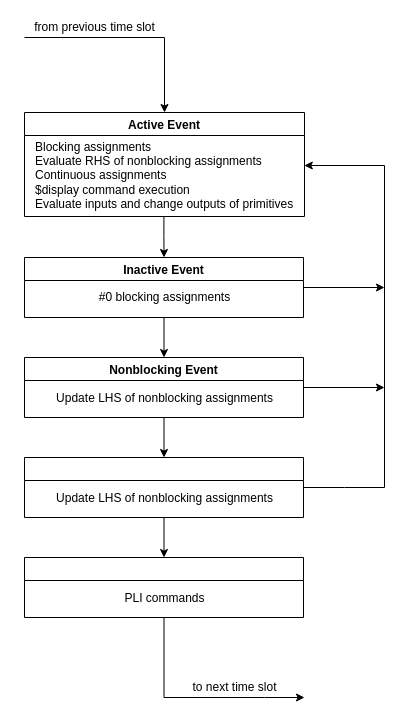
Some shapes in this 410 by 723 pixel diagram are drawn without their labels. Each missing label, with the box of its shape:
Future Event: (24, 556, 304, 618)
Monitor Event: (24, 456, 304, 518)
